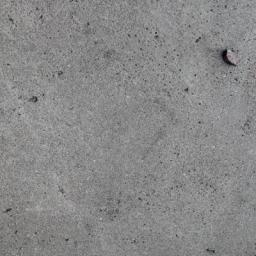FOD: (220, 47, 248, 70)
